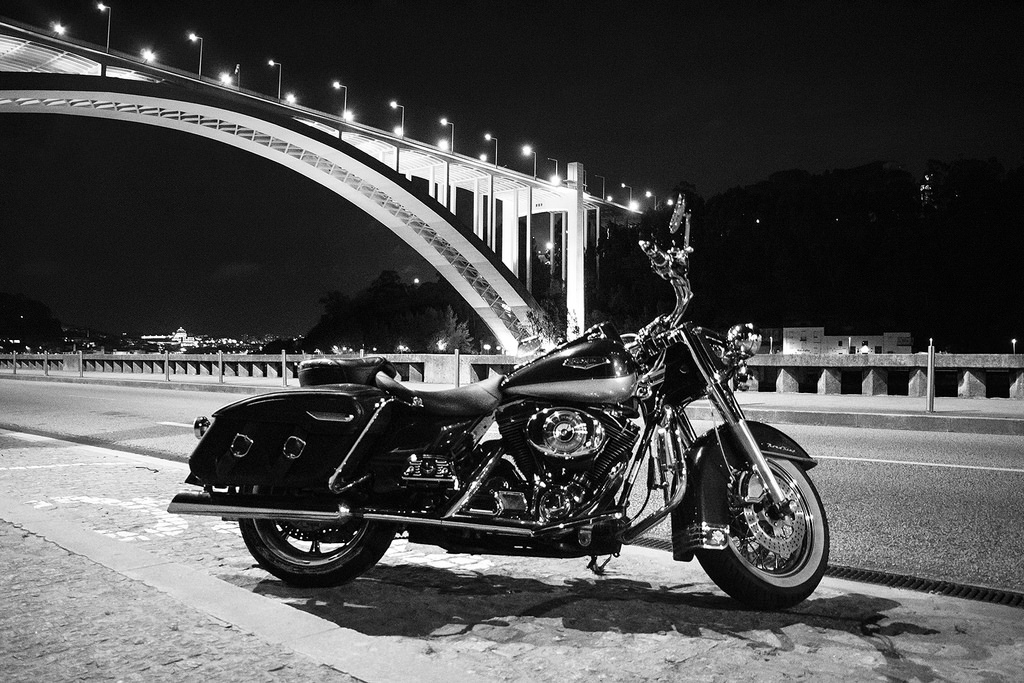arrabida: (0, 19, 674, 355)
